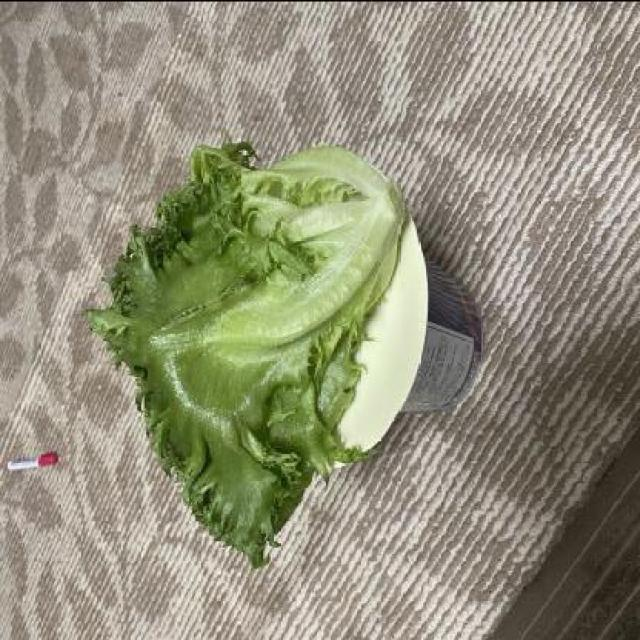Lettuce: (89, 139, 408, 576)
